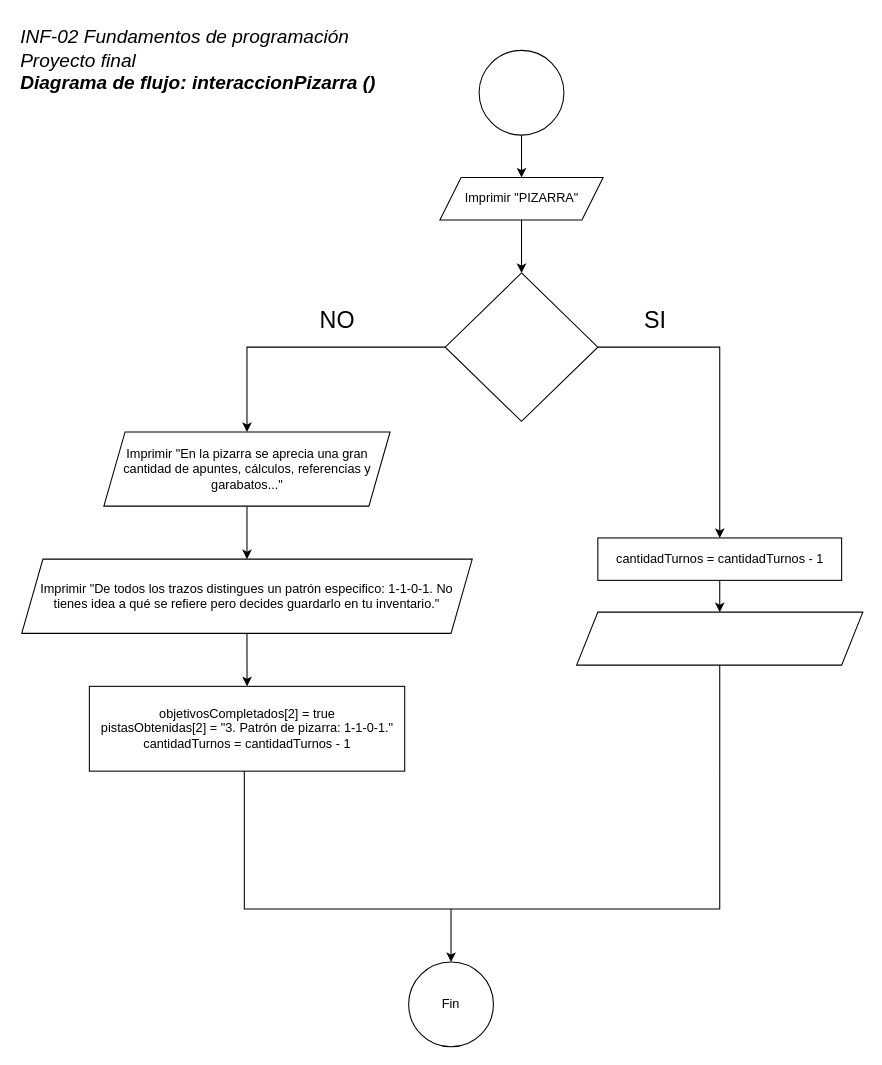
This 882x1065 diagram has some shape labels left out. The shapes that lost their labels are listed below. From the top down, each one's centre as x and y in pixels, then its label:
point (521, 92): Inicio
point (521, 346): objetivosCompletados[2]
point (719, 638): Imprimir "Ya completaste esta interacción, perdiste un turno."
